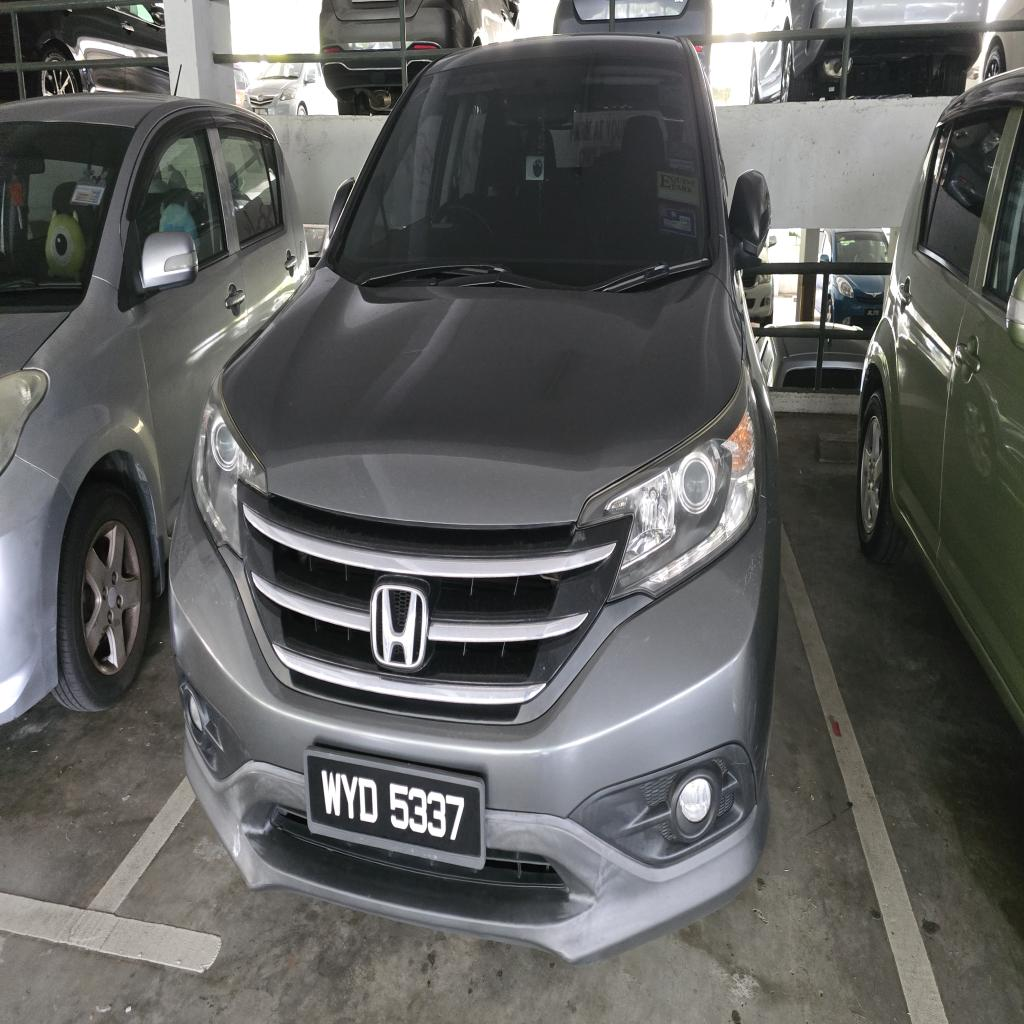car: (171, 36, 779, 962)
car plate: (306, 749, 485, 867)
